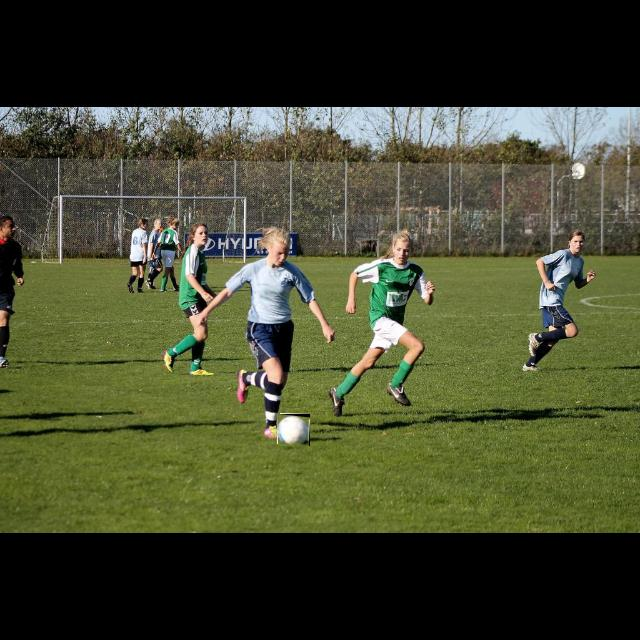Football: (278, 414, 310, 446)
